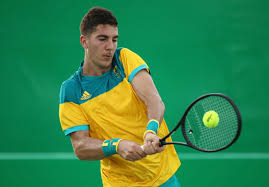tennis ball: (201, 111, 220, 129)
tennis player: (59, 8, 184, 187)
